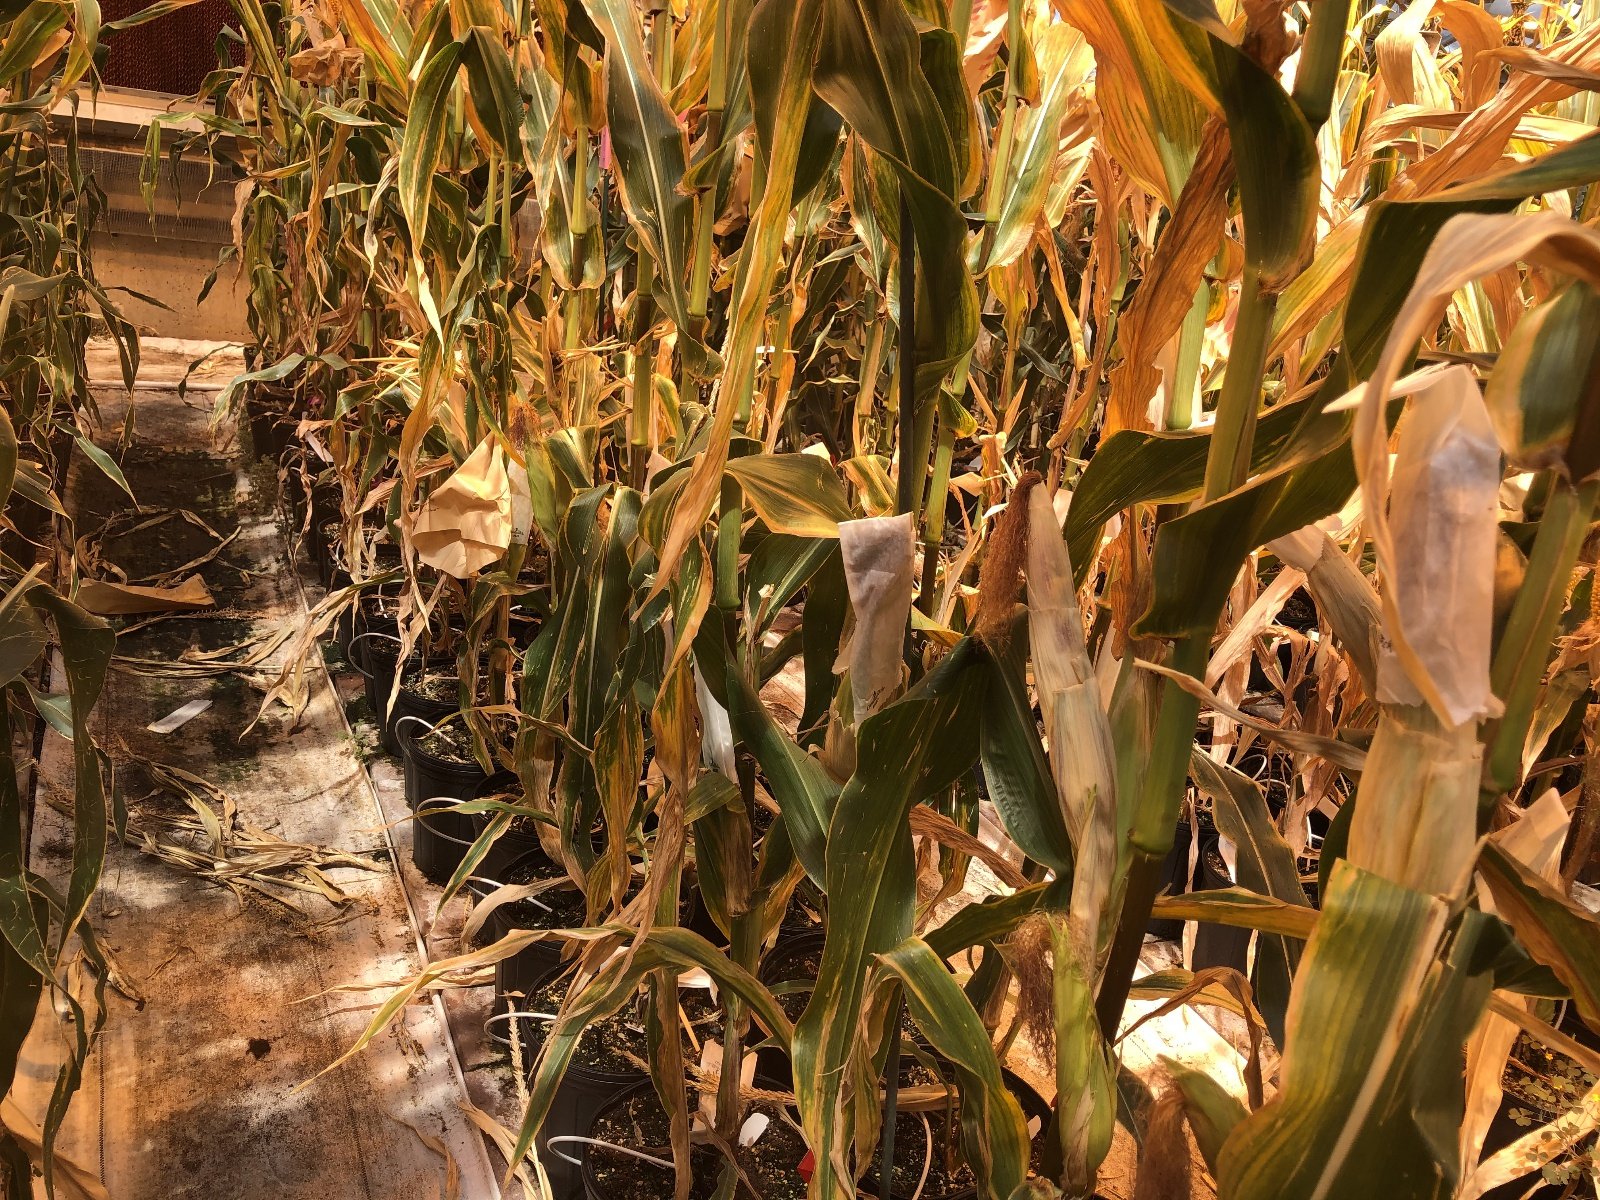ear: (979, 466, 1123, 861), (1020, 896, 1123, 1174), (1150, 1046, 1259, 1197), (510, 400, 564, 542)
